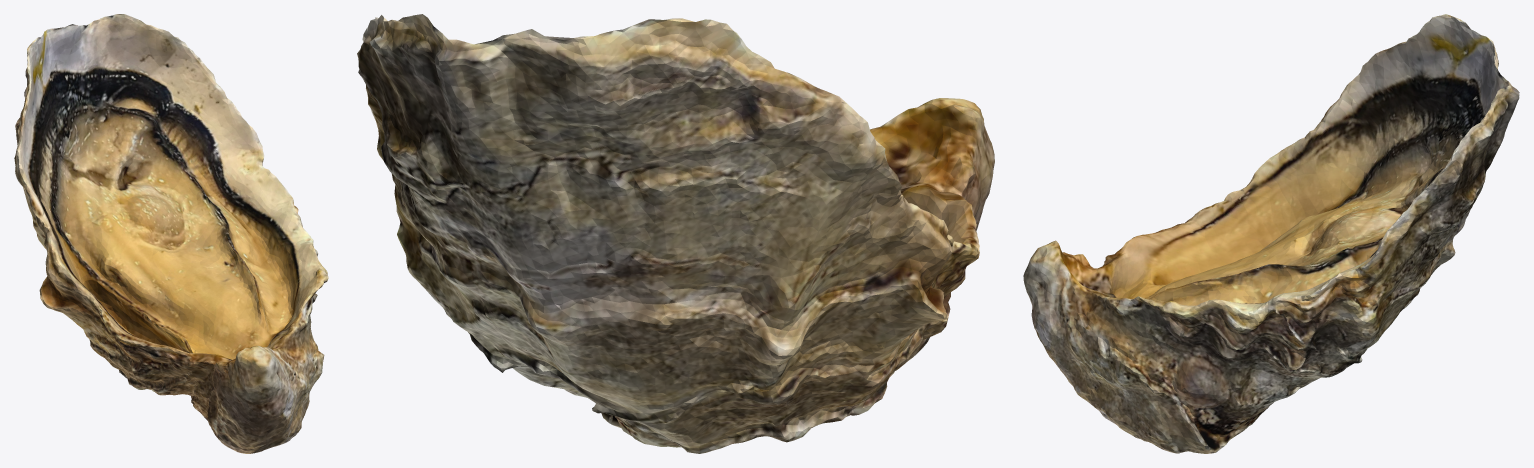
Rendered from large-pacific-top-internals.glb.
3 renders of one model, left to right at view 1: azimuth 30°, elevation 25°; view 2: azimuth 150°, elevation 25°; view 3: azimuth 270°, elevation 25°, orthographic. The views are drawn at different scales.
Bounding box in the file's own units: 0.3431 × 0.4094 × 0.5041.
1 material, 1 textured.
